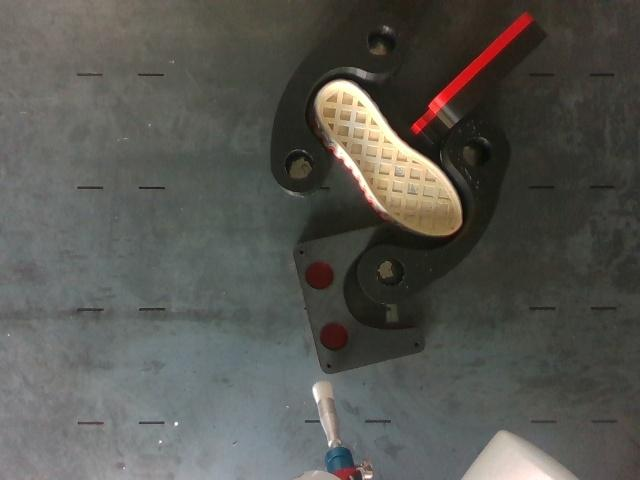shoes: (317, 81, 461, 235)
